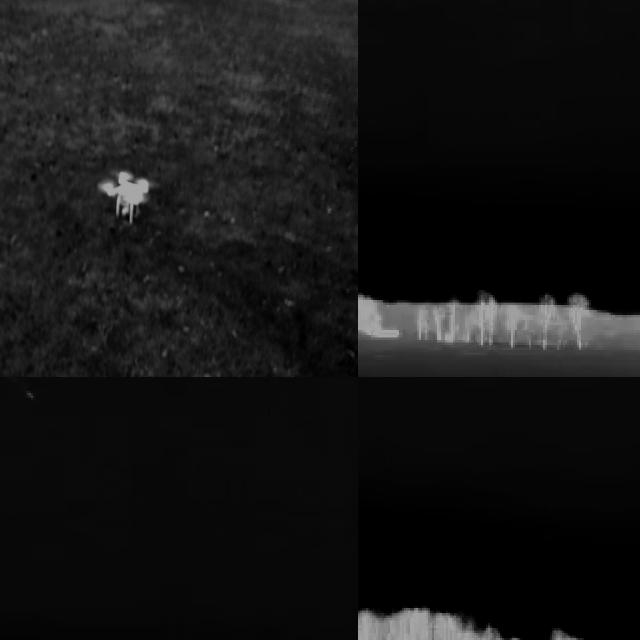0: (19, 378, 47, 413)
drone: (105, 167, 154, 222)
